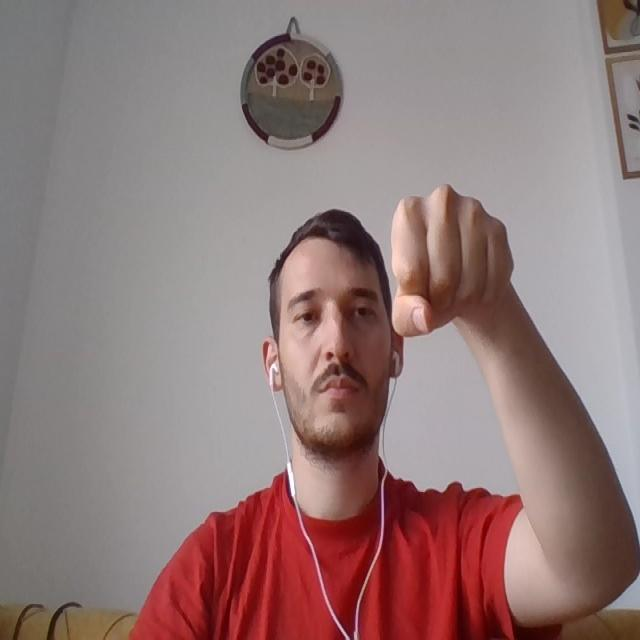yes: (394, 194, 522, 330)
